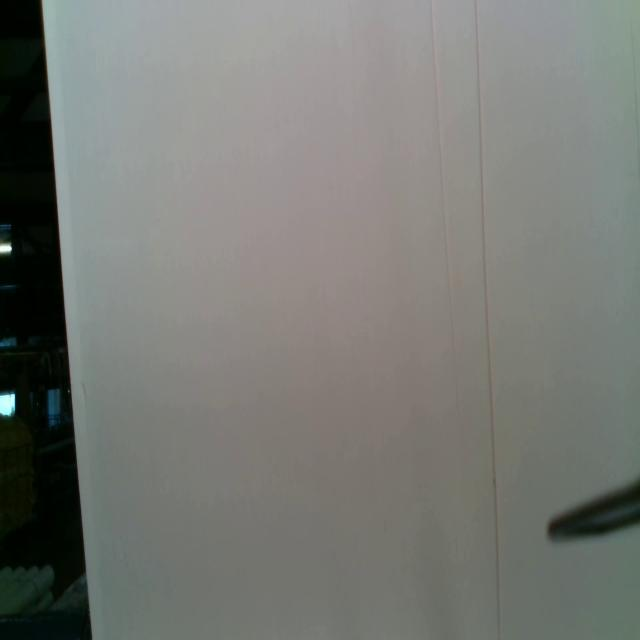crease: (475, 0, 502, 640), (428, 2, 464, 420)
